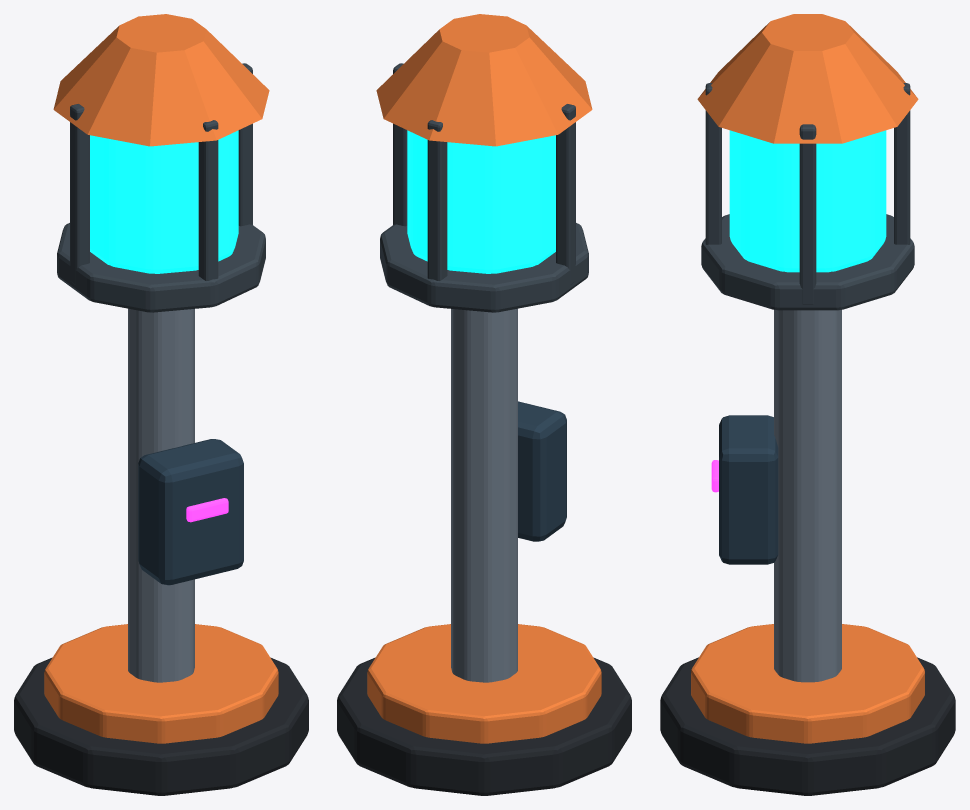
The model's file is beacon-lamp.fbx.
3 views of the same model, side by side, from view 1: azimuth 30°, elevation 25°; view 2: azimuth 150°, elevation 25°; view 3: azimuth 270°, elevation 25° (orthographic).
Parts seen in each view (by area): view 1: LampCap, BaseRing, Base, Pole, LampCore, ControlBox, LampLower, Guard_4.71, Guard_3.14, Guard_0, ControlIndicator; view 2: Pole, LampCap, BaseRing, Base, LampCore, LampLower, ControlBox, Guard_1.57, Guard_3.14, Guard_0; view 3: Pole, LampCap, BaseRing, Base, LampCore, LampLower, ControlBox, Guard_0, Guard_1.57, Guard_4.71.
Part boxes in pixels (box(x1,y1,x2,y2)): LampCap: box(53, 14, 269, 146); BaseRing: box(44, 624, 278, 743); Base: box(14, 657, 308, 795); Pole: box(128, 308, 194, 682); LampCore: box(90, 130, 238, 273); ControlBox: box(138, 439, 243, 585); LampLower: box(57, 223, 265, 312); Guard_4.71: box(198, 120, 218, 280); Guard_3.14: box(70, 104, 89, 284); Guard_0: box(238, 63, 252, 226); ControlIndicator: box(186, 498, 228, 522); Pole: box(451, 308, 517, 682); LampCap: box(376, 14, 592, 146); BaseRing: box(367, 624, 601, 743); Base: box(337, 657, 631, 795); LampCore: box(407, 130, 555, 273); LampLower: box(380, 223, 588, 312); ControlBox: box(518, 401, 566, 541); Guard_1.57: box(427, 120, 447, 280); Guard_3.14: box(556, 104, 575, 284); Guard_0: box(393, 63, 407, 226); Pole: box(774, 310, 841, 682); LampCap: box(697, 14, 918, 143); BaseRing: box(691, 624, 924, 743); Base: box(660, 657, 955, 795); LampCore: box(729, 130, 886, 272); LampLower: box(701, 214, 914, 310); ControlBox: box(719, 415, 778, 564); Guard_0: box(799, 124, 816, 304); Guard_1.57: box(894, 83, 910, 244); Guard_4.71: box(705, 83, 721, 244).
Size of the model in its own units: 0.8069 by 2.12 by 0.8069.
